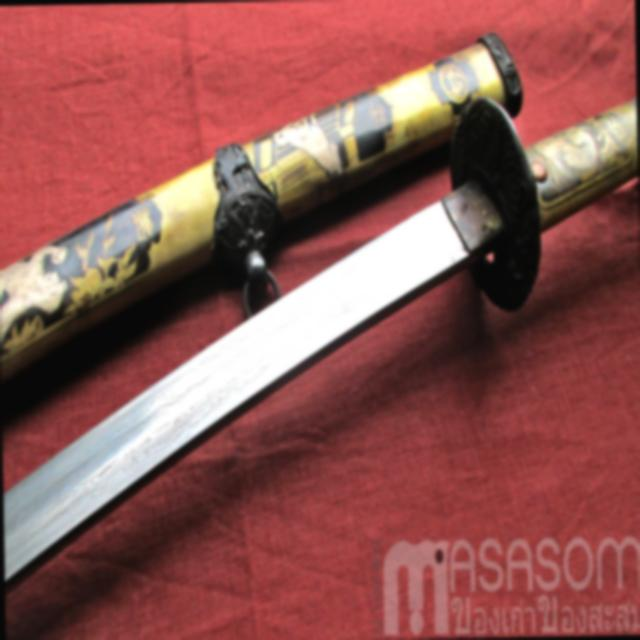long sword: (0, 109, 617, 594)
